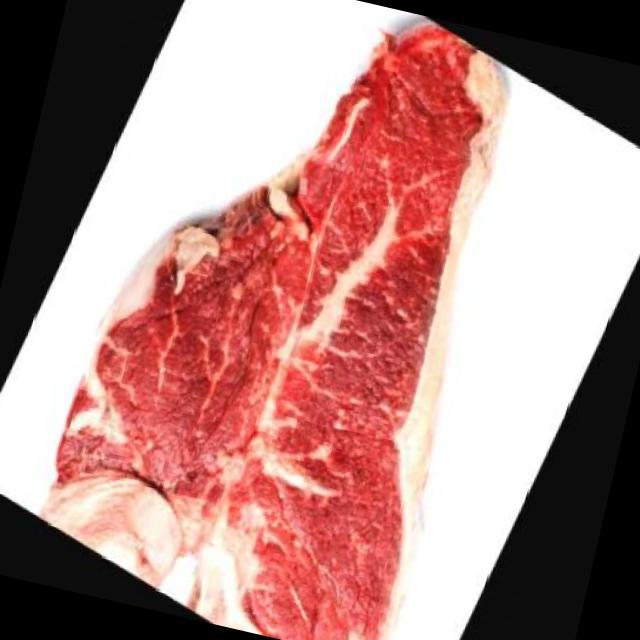beef: (23, 0, 539, 640)
